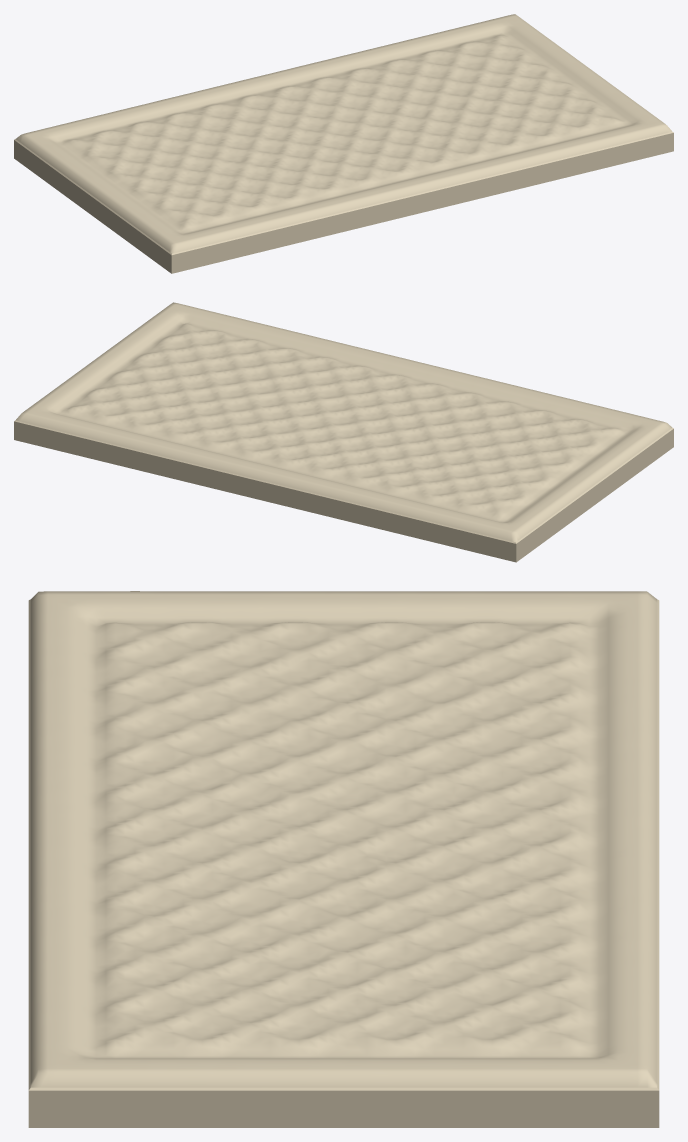
Rendered from mahsulot.glb.
3 views of the same model, one above another, from view 1: azimuth 30°, elevation 25°; view 2: azimuth 150°, elevation 25°; view 3: azimuth 270°, elevation 25° (orthographic). The views are drawn at different scales.
Parts seen in each view (by area): view 1: mahsulot; view 2: mahsulot; view 3: mahsulot.
Boxes of the visible parts, box(x1,y1,x2,y2) form: mahsulot: box(14, 14, 673, 273); mahsulot: box(14, 302, 673, 562); mahsulot: box(28, 591, 659, 1127).
Size of the model in its own units: 0.8 by 0.0396 by 0.435.
